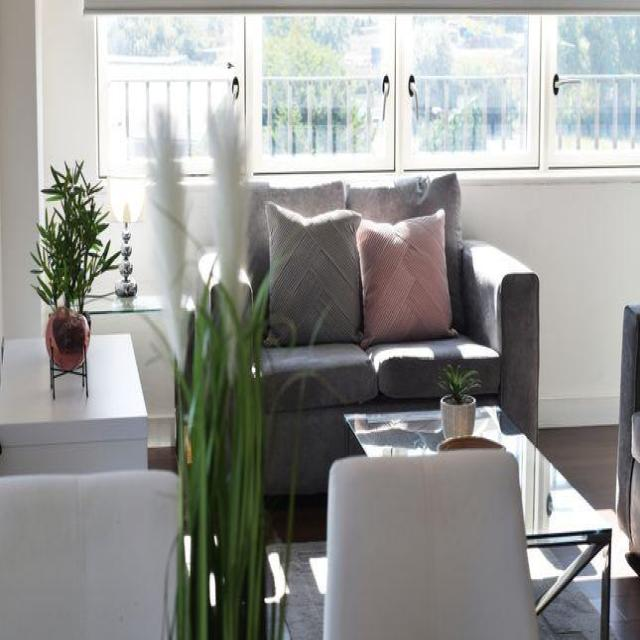Wall: (461, 176, 640, 402), (0, 0, 98, 340), (539, 427, 640, 638), (265, 496, 326, 639), (539, 555, 602, 639), (129, 212, 160, 296), (529, 549, 580, 599), (147, 446, 178, 472), (93, 272, 121, 294), (110, 223, 122, 245)
